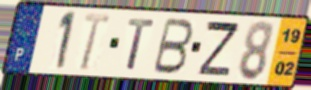1: (54, 10, 79, 72)
8: (238, 19, 274, 83)
B: (150, 16, 196, 76)
T: (78, 12, 112, 72), (125, 16, 157, 72)
Z: (197, 19, 242, 78)
